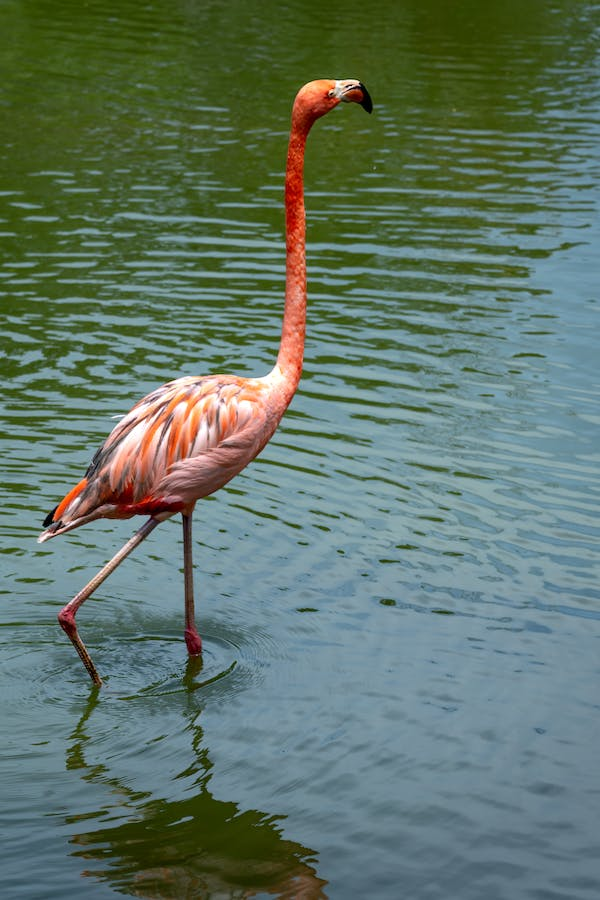Walking: (34, 30, 391, 800)
